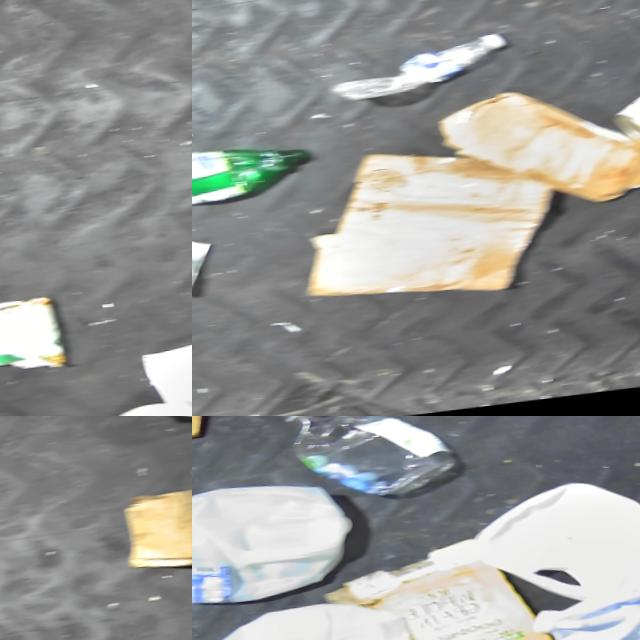can: (601, 87, 640, 160)
milk_jug: (461, 476, 640, 621), (192, 473, 354, 615), (201, 595, 416, 640), (524, 590, 640, 640)
plastic_bottle: (274, 416, 457, 512), (318, 38, 509, 110)
